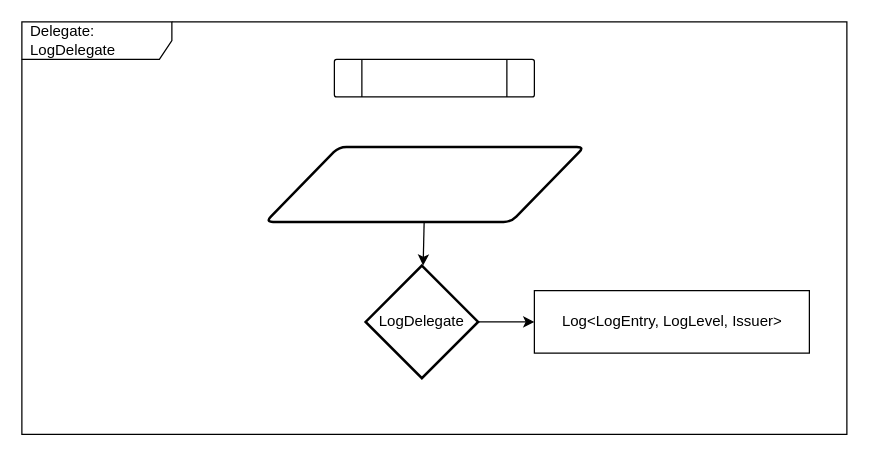
The diagram is 869 pixels wide and 456 high, and some of its shapes have lost their labels. Here are the shapes that lost their labels. From the top down, the centre of each, then its label:
At [433,77]: "Parent Injection Scope".
At [424,183]: "<< Injection Token >> NGXA_LOG".
